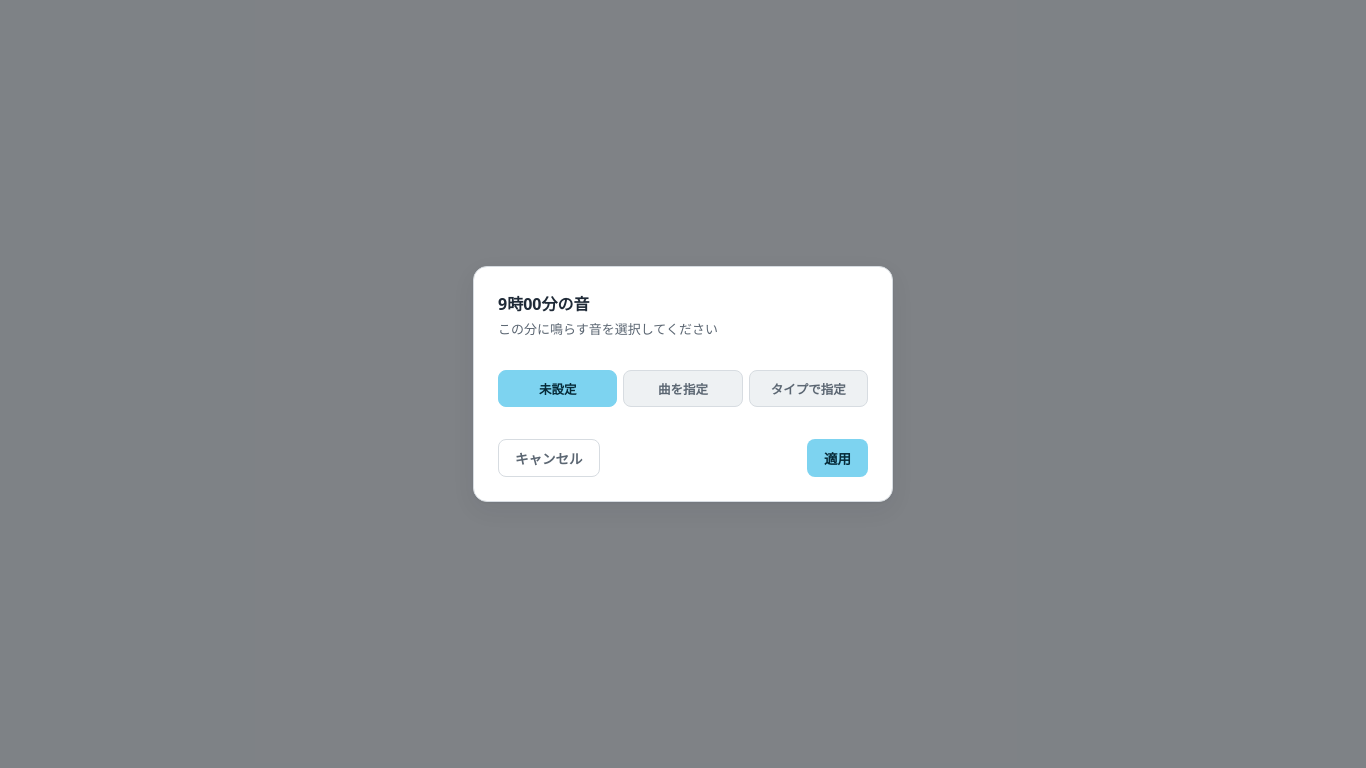
Test: SoundAssignDialog › タイプを0件選択の状態では適用ボタンが非活性
Click the button "タイプで指定" at point(808, 388), box [749,370,868,407]
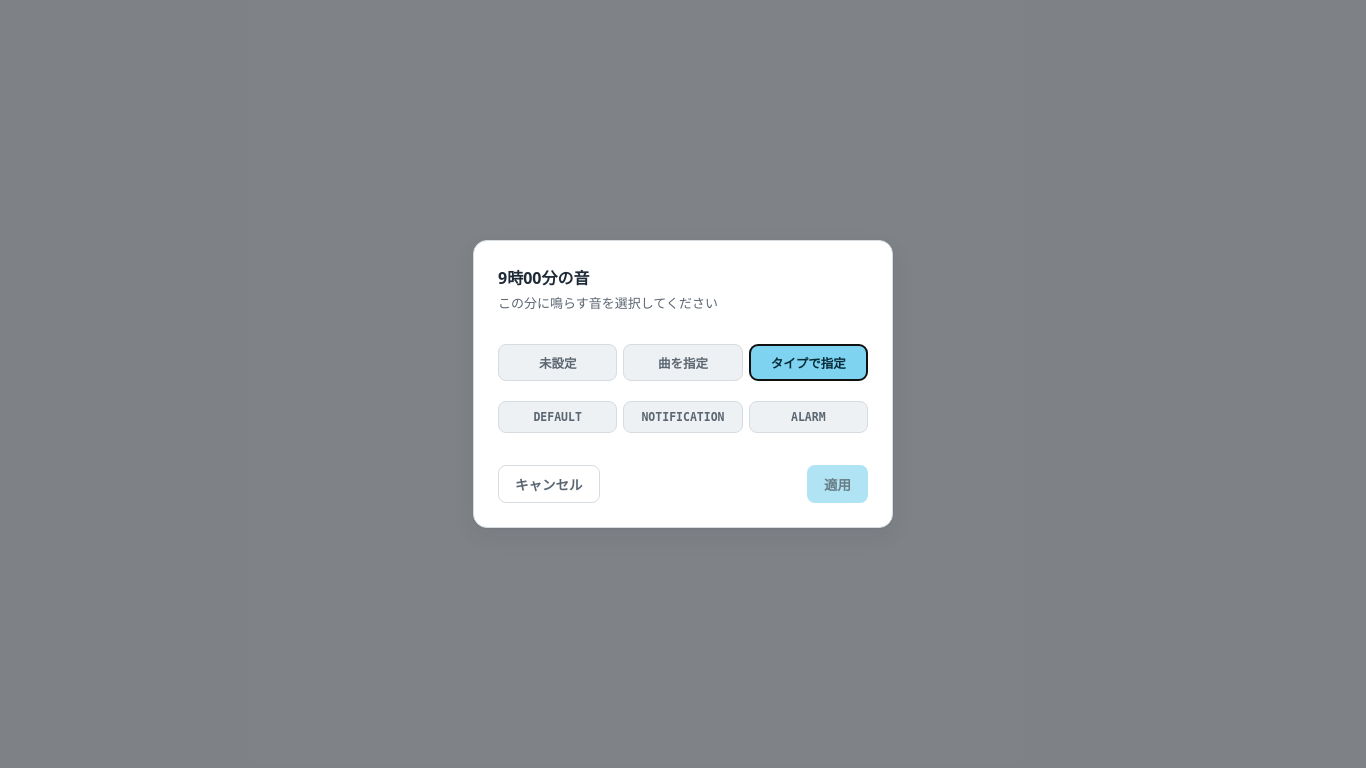
Check: the button "適用" is disabled, box [807,465,868,503]
